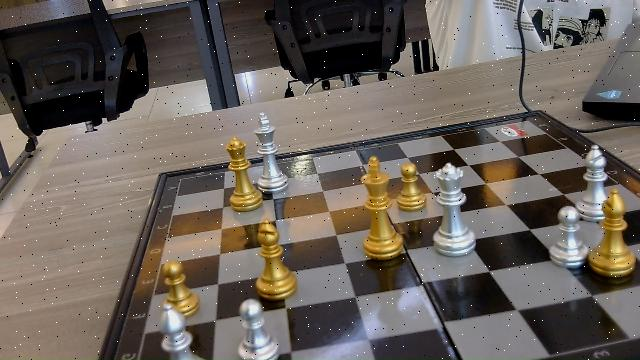black_bishop: (590, 188, 637, 279), (252, 218, 298, 300)
black_king: (361, 155, 396, 261)
black_pawn: (159, 261, 200, 317), (397, 162, 428, 212)
black_queen: (223, 137, 260, 212)
white_bishop: (579, 145, 609, 221), (159, 306, 201, 359)
white_king: (257, 112, 286, 192)
white_pawn: (236, 297, 279, 360), (551, 205, 586, 270)
white_queen: (434, 162, 474, 256)
